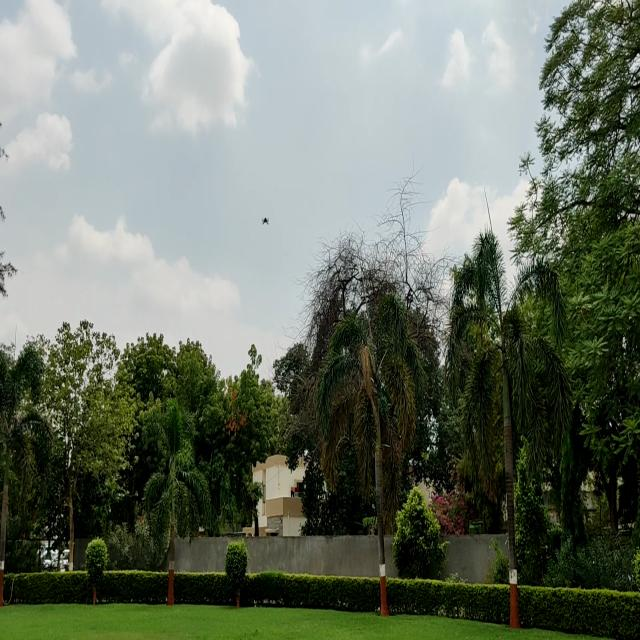drone: (257, 209, 273, 230)
